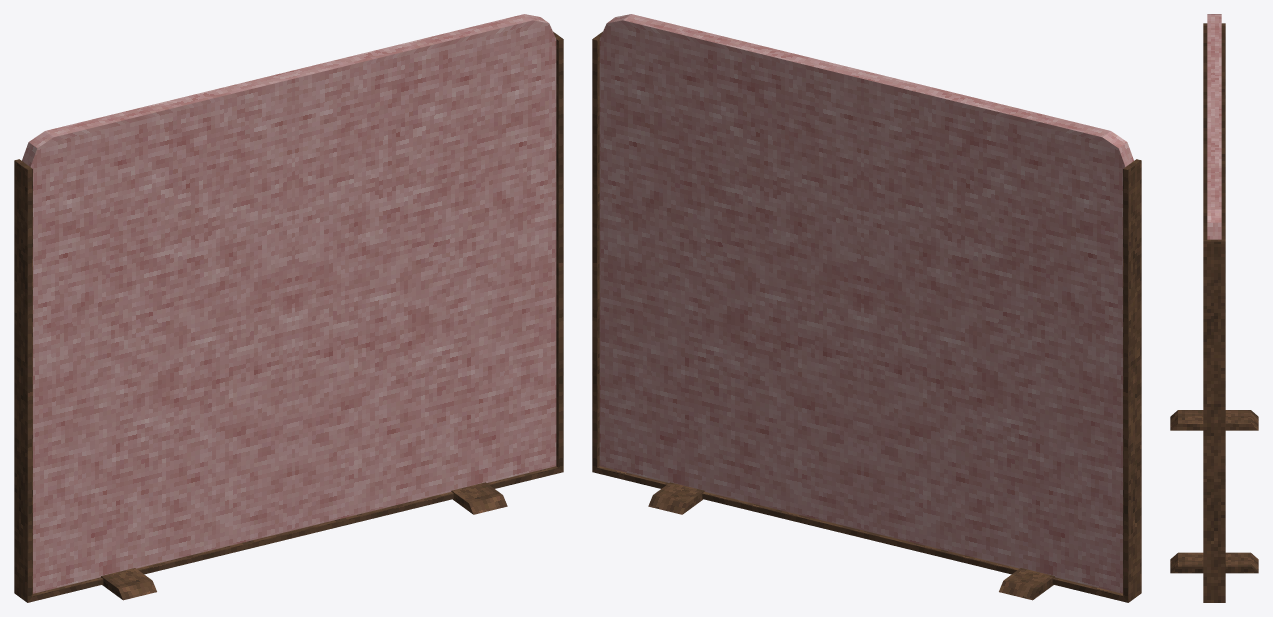
The model's file is divider_wood_red.glb.
3 renders of one model, left to right at view 1: azimuth 30°, elevation 25°; view 2: azimuth 150°, elevation 25°; view 3: azimuth 270°, elevation 25°, orthographic. The views are drawn at different scales.
Parts seen in each view (by area): view 1: divider_wood_red; view 2: divider_wood_red; view 3: divider_wood_red.
Part boxes in pixels (x1,y1,x2,y2): divider_wood_red: [14, 14, 563, 602]; divider_wood_red: [592, 14, 1141, 602]; divider_wood_red: [1170, 14, 1258, 602].
Size of the model in its own units: 3.06 by 2.5 by 0.523.
Materials: 1 (1 with a texture image).
